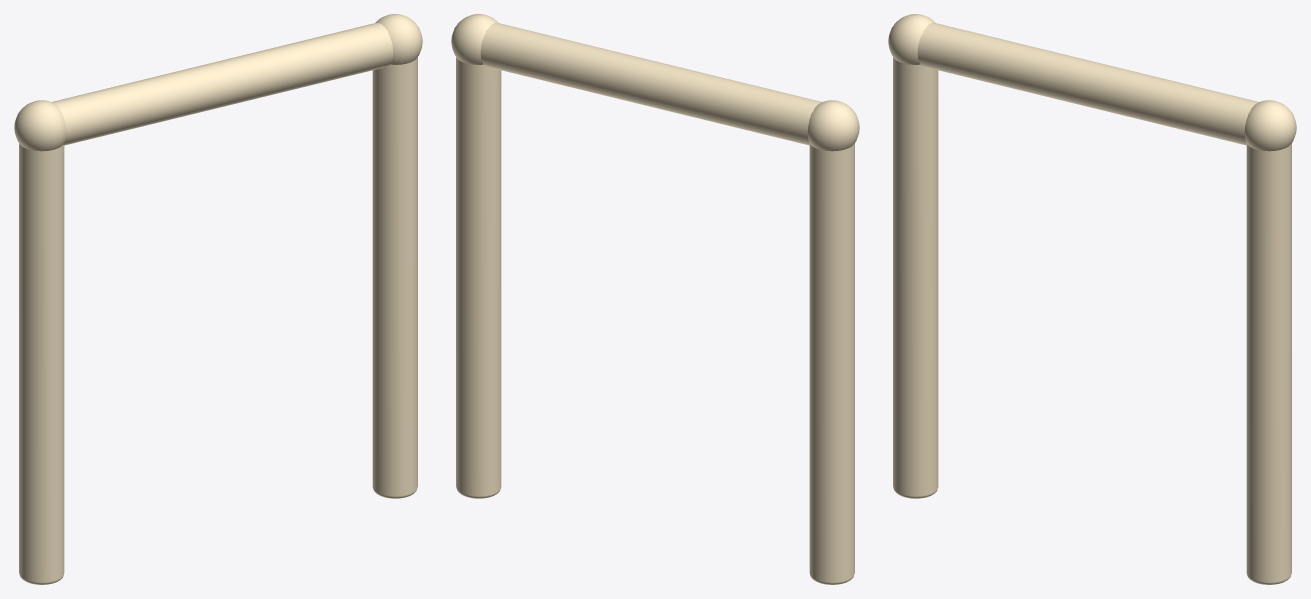
File: tatu_roof_cage_mobile.glb
The picture shows the model from 3 angles, left to right: view 1: azimuth 30°, elevation 25°; view 2: azimuth 150°, elevation 25°; view 3: azimuth 330°, elevation 25°; orthographic projection.
Parts seen in each view (by area): view 1: RoofCage; view 2: RoofCage; view 3: RoofCage.
Boxes of the visible parts, bbox=[...] form: RoofCage: bbox=[14, 14, 422, 584]; RoofCage: bbox=[451, 14, 859, 584]; RoofCage: bbox=[888, 14, 1296, 584].
Size of the model in its own units: 1.43 by 1.62 by 0.17.
